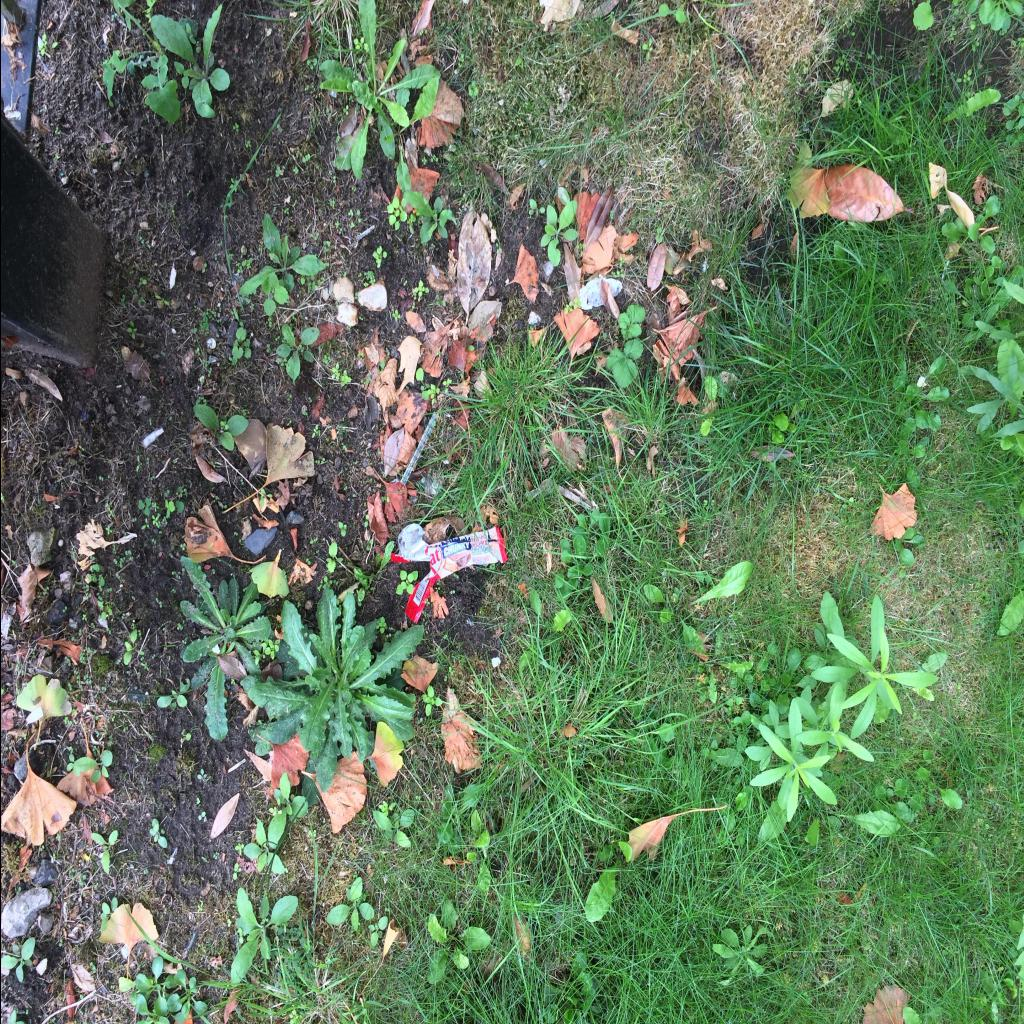Other plastic: (390, 523, 508, 624)
Plastic film: (399, 412, 438, 486)
